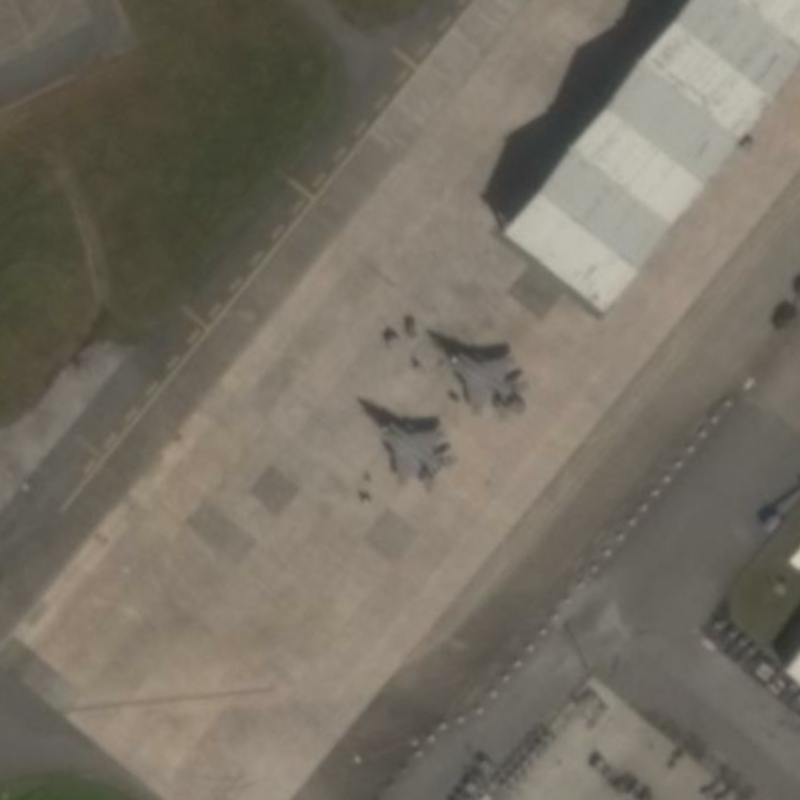A13: (351, 389, 465, 490), (421, 321, 534, 418)
